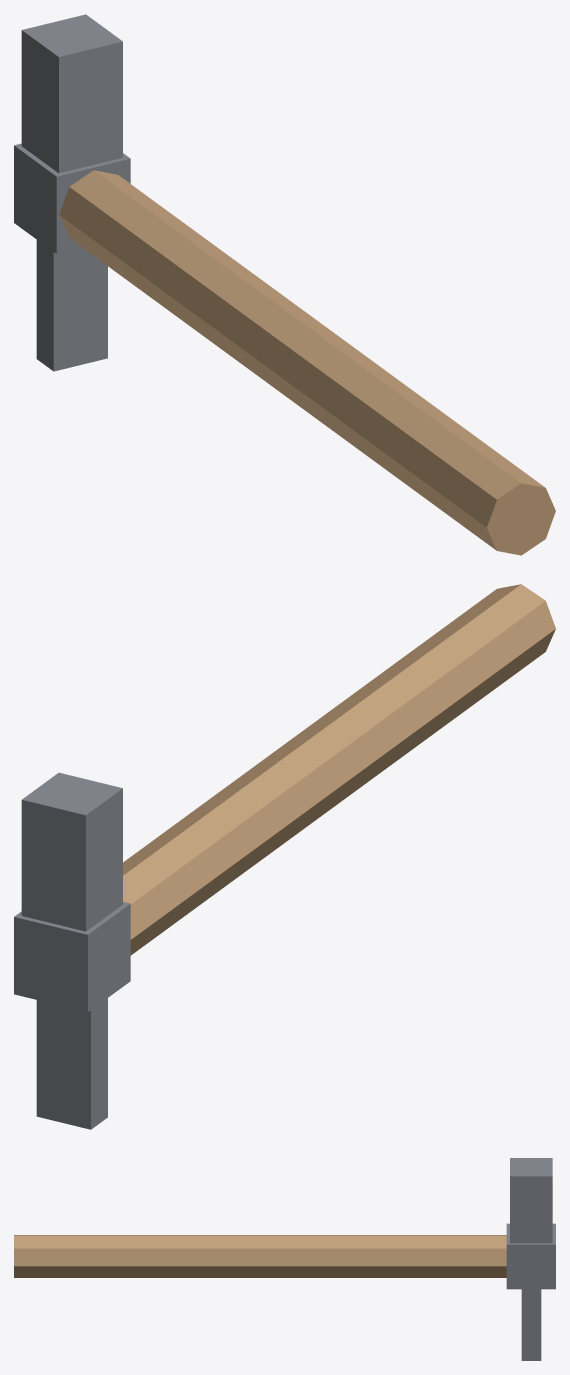
The model's file is hammer.glb.
The picture shows the model from 3 angles, top to bottom: view 1: azimuth 30°, elevation 25°; view 2: azimuth 150°, elevation 25°; view 3: azimuth 270°, elevation 25°; orthographic projection. The views are drawn at different scales.
Visible parts, largest first — view 1: hammer; view 2: hammer; view 3: hammer.
Boxes of the visible parts, <box> form: hammer: <box>14,14,555,555</box>; hammer: <box>14,584,555,1129</box>; hammer: <box>14,1158,555,1360</box>.
Bounding box in the file's own units: 0.03 × 0.125 × 0.33.
